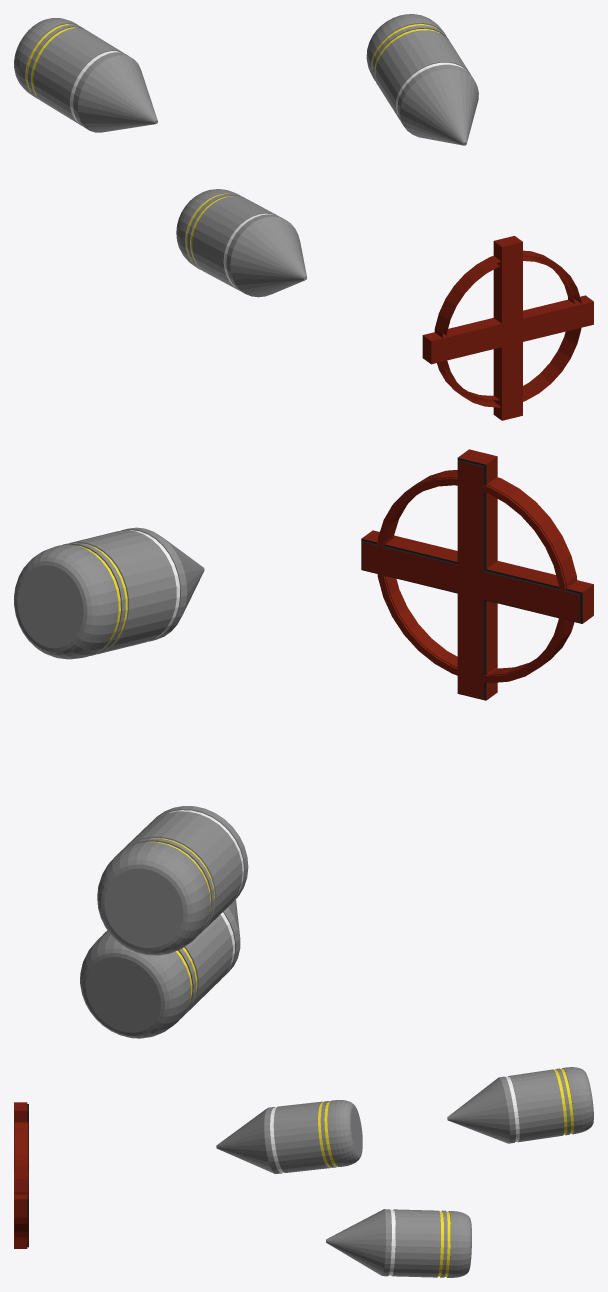
The model's file is paintstrike.fbx.
3 renders of one model, top to bottom at view 1: azimuth 30°, elevation 25°; view 2: azimuth 150°, elevation 25°; view 3: azimuth 270°, elevation 25°, orthographic. The views are drawn at different scales.
Parts seen in each view (by area): view 1: Landing Reticle, Shell High, Shell Low, Shell Mid; view 2: Landing Reticle, Shell Low, Shell High, Shell Mid; view 3: Shell High, Shell Low, Shell Mid, Landing Reticle.
Boxes of the visible parts, x1=… form: Landing Reticle: x1=422, y1=236, x2=593, y2=420; Shell High: x1=14, y1=18, x2=157, y2=132; Shell Low: x1=366, y1=14, x2=478, y2=145; Shell Mid: x1=176, y1=189, x2=306, y2=297; Landing Reticle: x1=361, y1=449, x2=593, y2=700; Shell Low: x1=14, y1=527, x2=204, y2=659; Shell High: x1=97, y1=806, x2=248, y2=955; Shell Mid: x1=80, y1=899, x2=240, y2=1038; Shell High: x1=447, y1=1067, x2=593, y2=1143; Shell Low: x1=216, y1=1100, x2=362, y2=1173; Shell Mid: x1=326, y1=1209, x2=471, y2=1277; Landing Reticle: x1=14, y1=1102, x2=28, y2=1248.
Size of the model in its own units: 334 by 311 by 748.
Materials: 2 (2 with a texture image).
